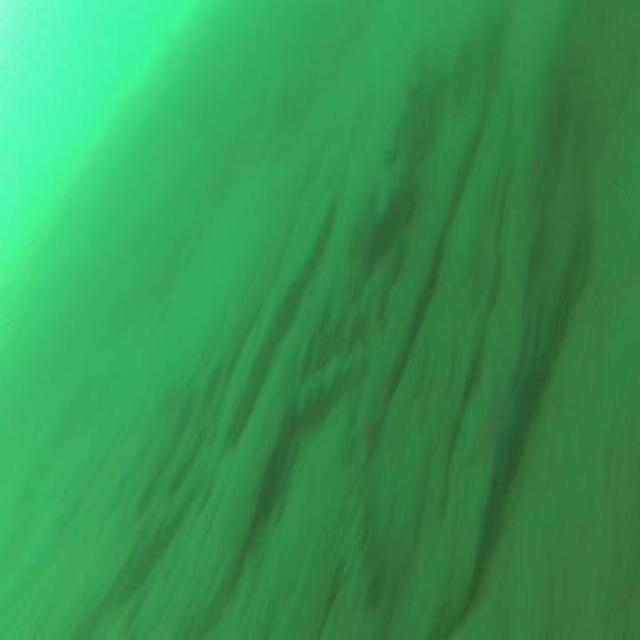holothurian: (335, 438, 387, 592), (292, 351, 366, 412)
starfish: (456, 392, 520, 487)
